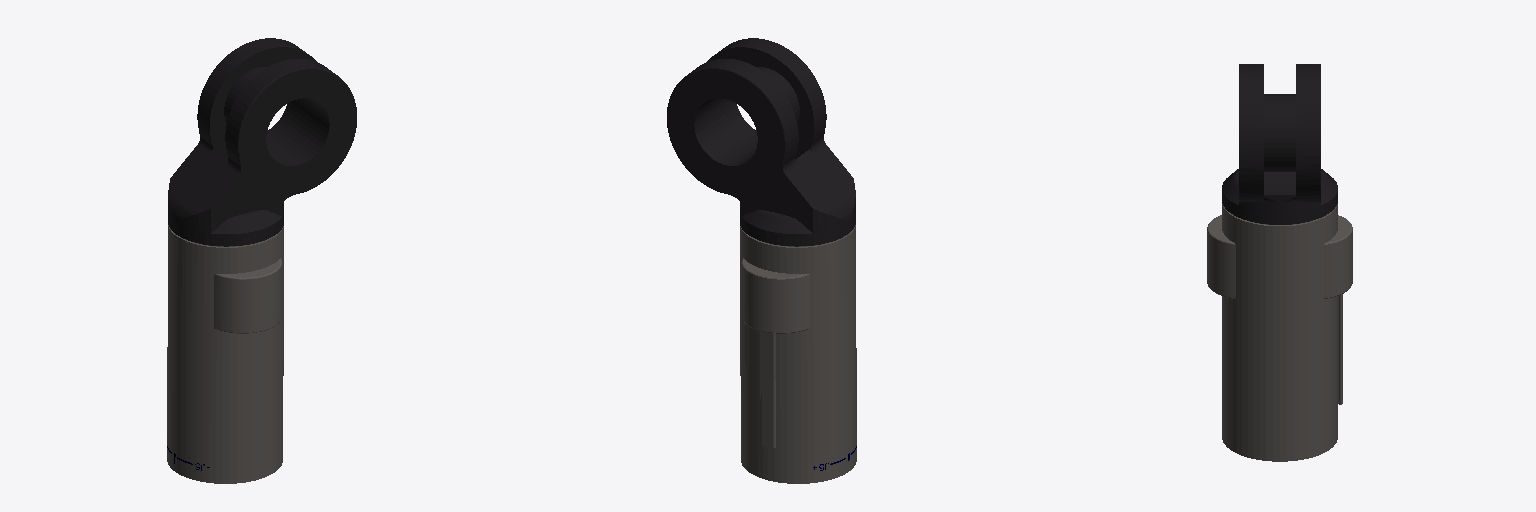
3 renders of one model, left to right at view 1: azimuth 30°, elevation 25°; view 2: azimuth 150°, elevation 25°; view 3: azimuth 270°, elevation 25°, orthographic.
Visible parts, largest first — view 1: mesh_9_Imported19.013_mesh_9_Imported19.015; view 2: mesh_9_Imported19.013_mesh_9_Imported19.015; view 3: mesh_9_Imported19.013_mesh_9_Imported19.015.
Part boxes in pixels (bbox=[...]): mesh_9_Imported19.013_mesh_9_Imported19.015: bbox=[167, 38, 356, 483]; mesh_9_Imported19.013_mesh_9_Imported19.015: bbox=[667, 38, 856, 483]; mesh_9_Imported19.013_mesh_9_Imported19.015: bbox=[1207, 64, 1352, 461].
Size of the model in its own units: 0.1438 by 0.3318 by 0.1115.